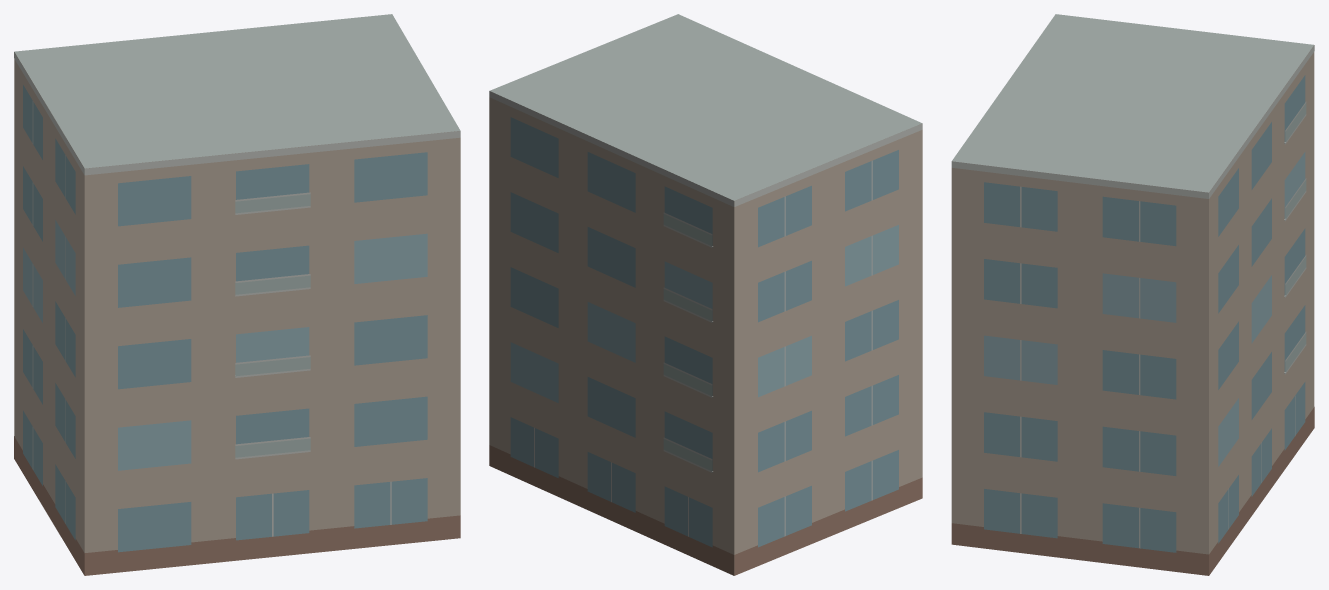
Rendered from survey-upis-32874819.glb.
3 renders of one model, left to right at view 1: azimuth 30°, elevation 25°; view 2: azimuth 150°, elevation 25°; view 3: azimuth 270°, elevation 25°, orthographic. The views are drawn at different scales.
Parts seen in each view (by area): view 1: survey-upis-32874819.tmp; view 2: survey-upis-32874819.tmp; view 3: survey-upis-32874819.tmp.
Part boxes in pixels (x1,y1,x2,y2): survey-upis-32874819.tmp: (14,14,460,575); survey-upis-32874819.tmp: (489,14,922,575); survey-upis-32874819.tmp: (951,14,1314,575).
Bounding box in the file's own units: 14.4 × 14.4 × 12.36.
